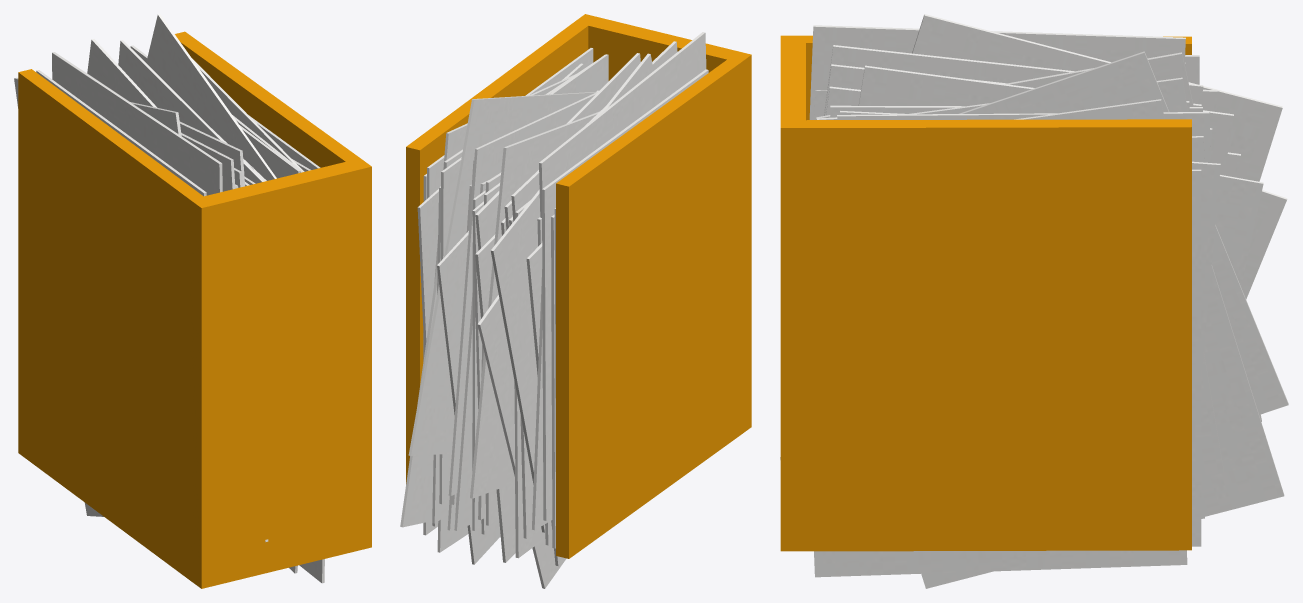
The model's file is YellowFolderWithPapers.fbx.
3 views of the same model, side by side, from view 1: azimuth 30°, elevation 25°; view 2: azimuth 150°, elevation 25°; view 3: azimuth 270°, elevation 25° (orthographic). The views are drawn at different scales.
Parts seen in each view (by area): view 1: Cube.006, Cube.011; view 2: Cube.006, Cube.011; view 3: Cube.006, Cube.011.
Part boxes in pixels (x1,y1,x2,y2): Cube.006: (18,31,371,588); Cube.011: (14,14,324,583); Cube.006: (406,14,751,558); Cube.011: (400,32,708,588); Cube.006: (780,35,1191,551); Cube.011: (780,14,1288,588).
Bounding box in the file's own units: 69.14 × 187 × 161.
